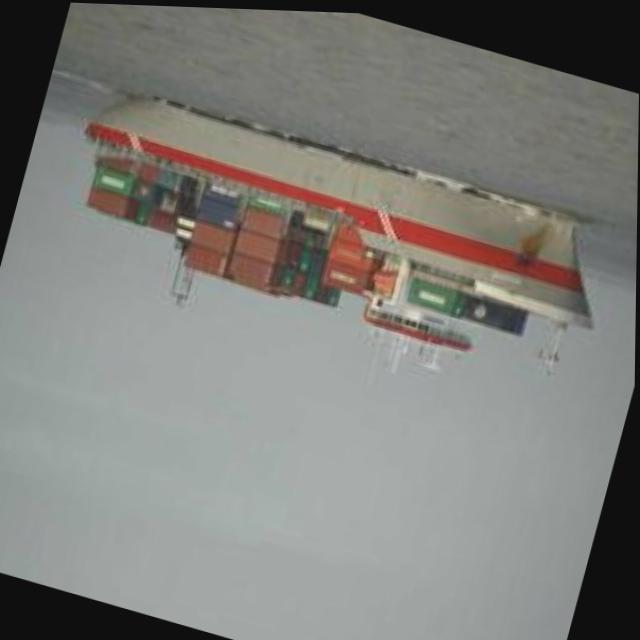ship2: (84, 92, 595, 380)
